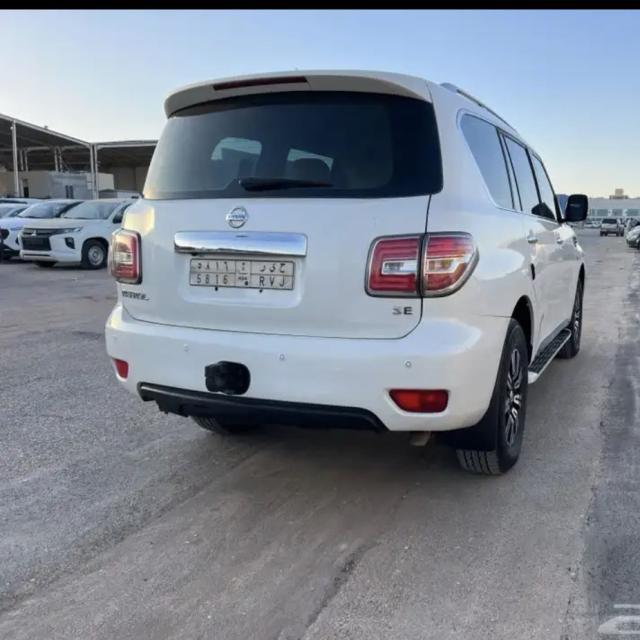license_plate: (188, 254, 297, 296)
